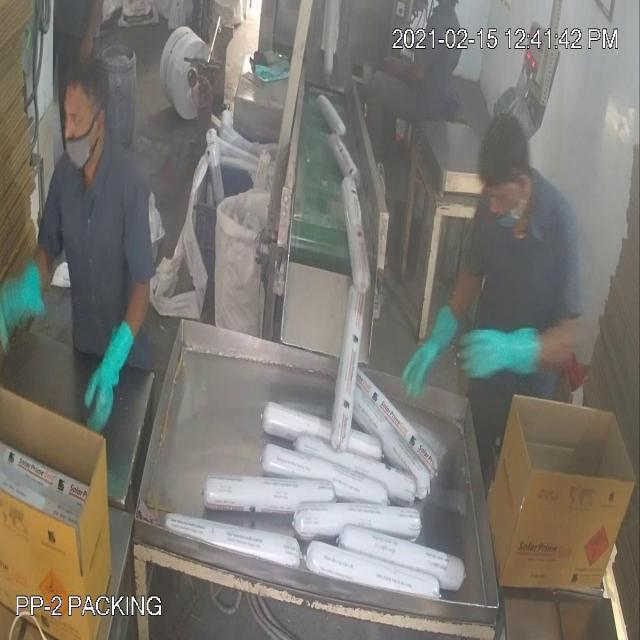Gloves: (56, 60, 510, 375)
